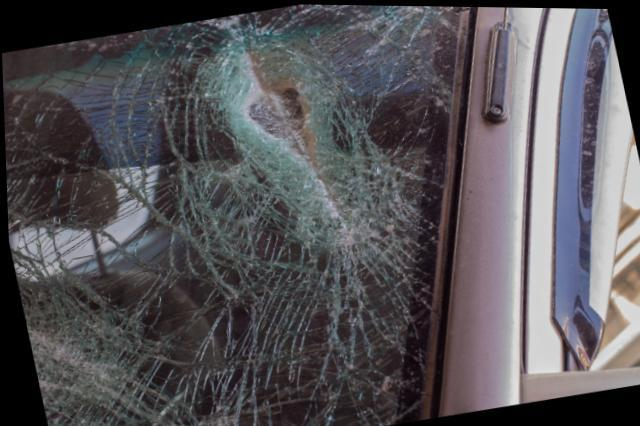glass shatter: (2, 4, 469, 426)
